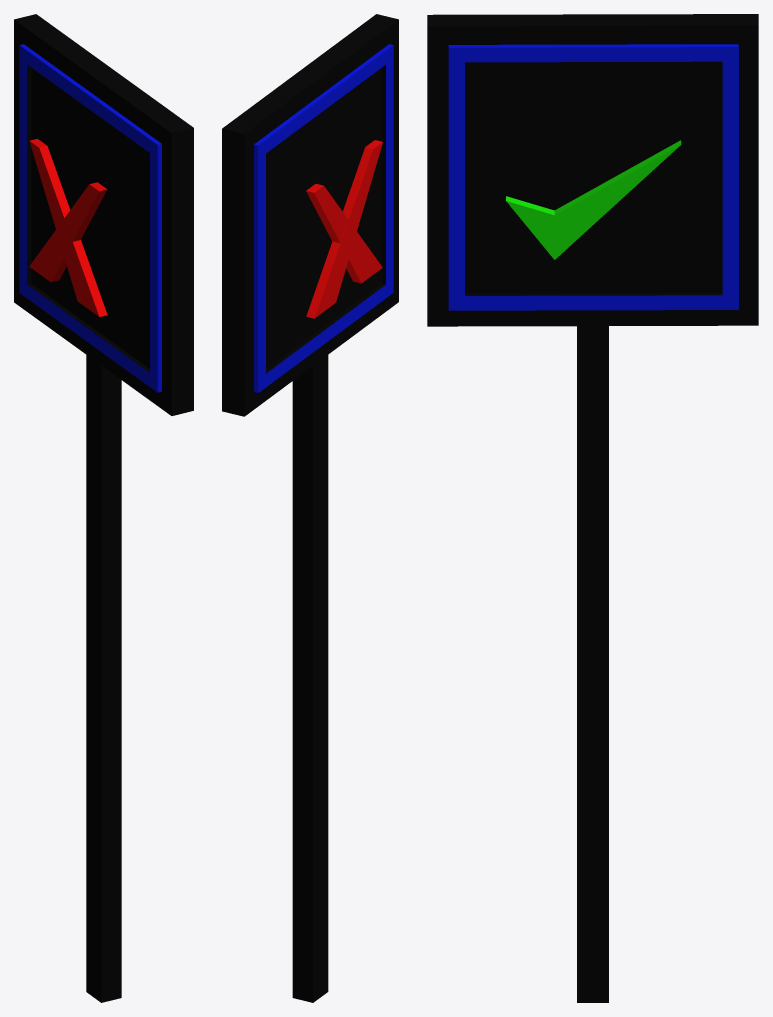
Rendered from CheckpointSpin.fbx.
3 renders of one model, left to right at view 1: azimuth 30°, elevation 25°; view 2: azimuth 150°, elevation 25°; view 3: azimuth 270°, elevation 25°, orthographic. The views are drawn at different scales.
Parts seen in each view (by area): view 1: Cube.003, Cube.002; view 2: Cube.003, Cube.002; view 3: Cube.003, Cube.002.
Part boxes in pixels (left/top/right/bottom): Cube.003: left=14, top=14, right=193, bottom=415; Cube.002: left=86, top=355, right=121, bottom=1002; Cube.003: left=222, top=14, right=398, bottom=416; Cube.002: left=292, top=355, right=328, bottom=1002; Cube.003: left=427, top=14, right=758, bottom=326; Cube.002: left=577, top=326, right=608, bottom=1002.
Bounding box in the file's own units: 0.5878 × 6.51 × 2.
